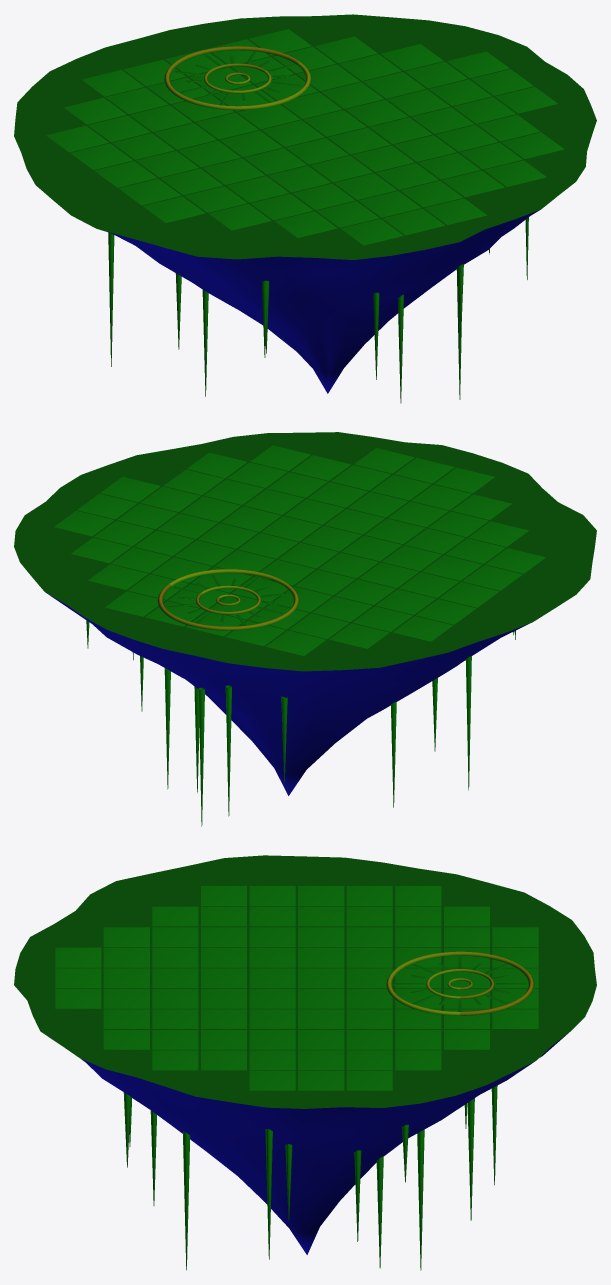
The model's file is memory_island.glb.
The picture shows the model from 3 angles, top to bottom: view 1: azimuth 30°, elevation 25°; view 2: azimuth 150°, elevation 25°; view 3: azimuth 270°, elevation 25°; orthographic projection. The views are drawn at different scales.
Parts seen in each view (by area): view 1: memory_island; view 2: memory_island; view 3: memory_island.
Part boxes in pixels (<box>): memory_island: <box>14,14,596,403</box>; memory_island: <box>14,432,596,826</box>; memory_island: <box>14,855,596,1270</box>.
Size of what is drawn, in the model's own units: 18.52 by 9.09 by 18.
